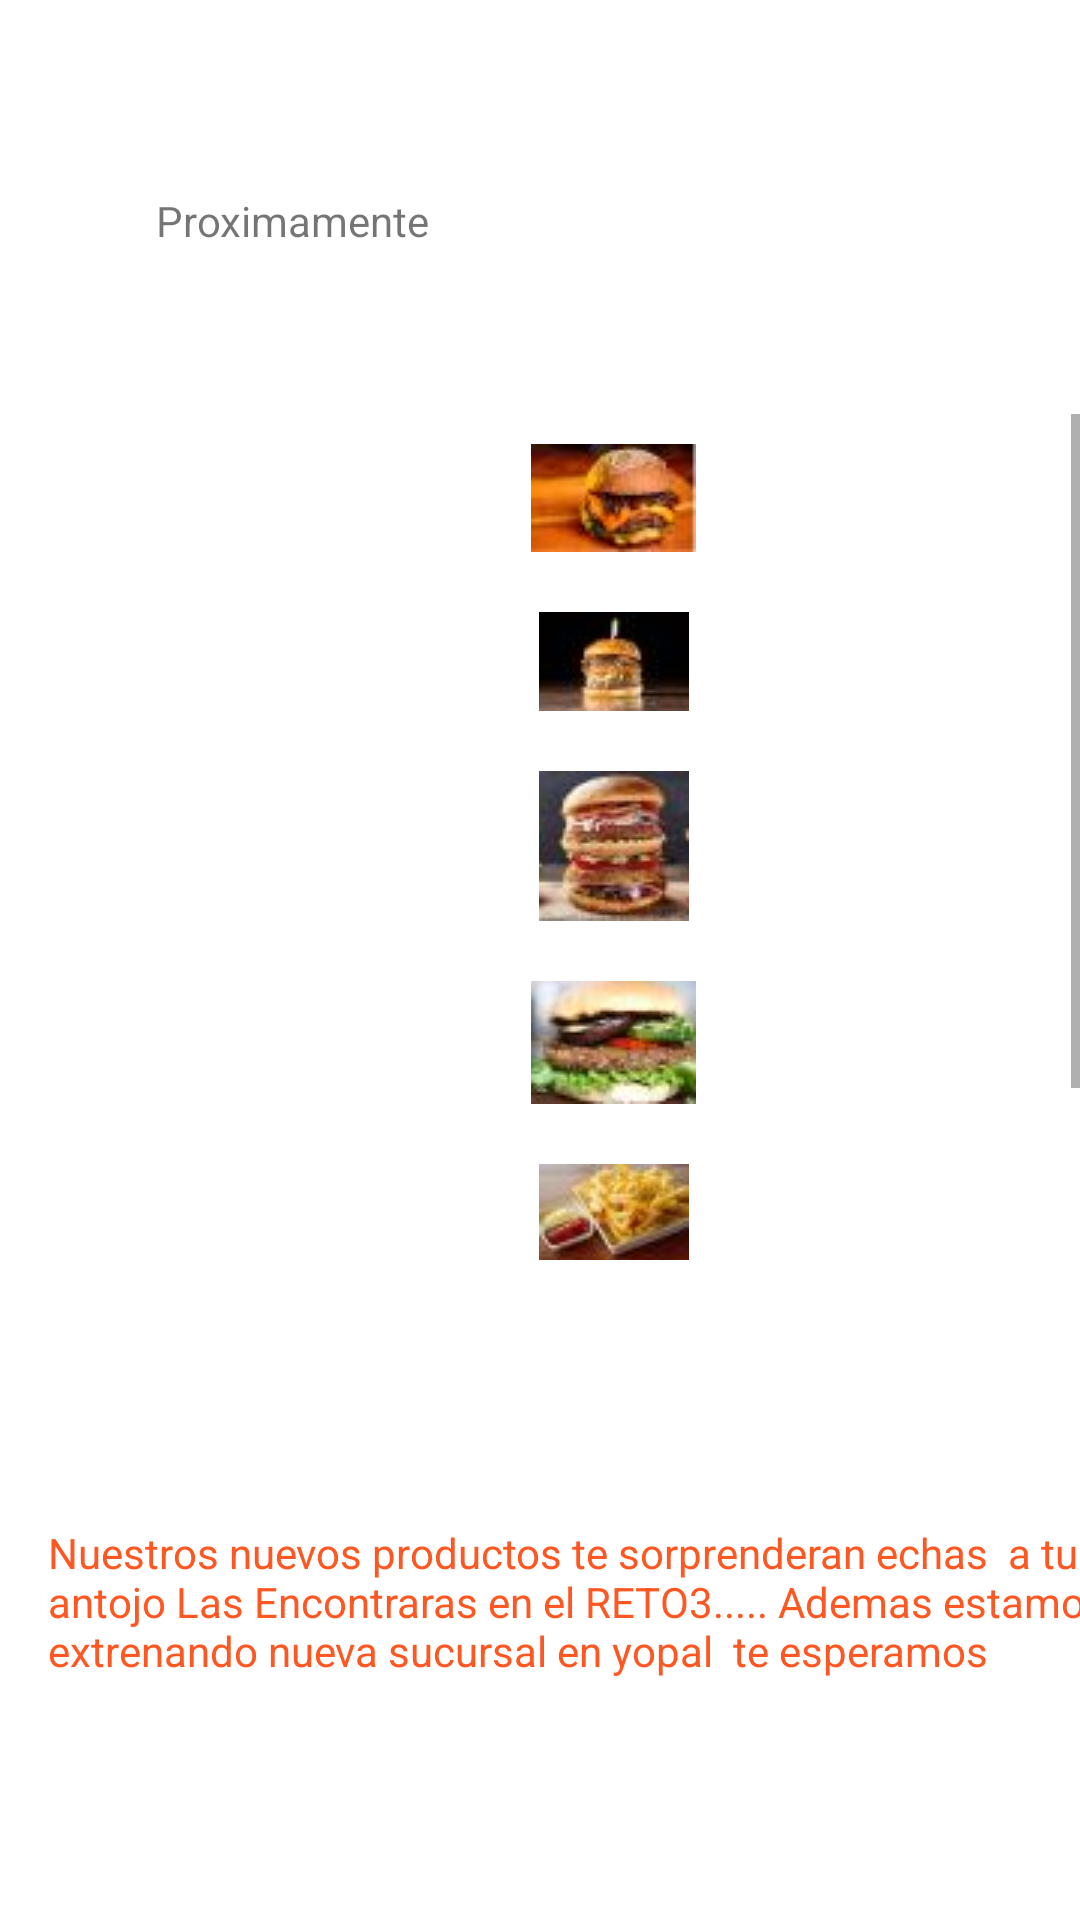

Icons on this 1080w x 1920h Android screen, each with its box as [x1,y1,x2,y2]:
hamburguesa: [531,444,696,552], [539,612,689,711]
mega hamburguesa: [539,771,689,921]
vegetariana: [531,981,696,1104]
